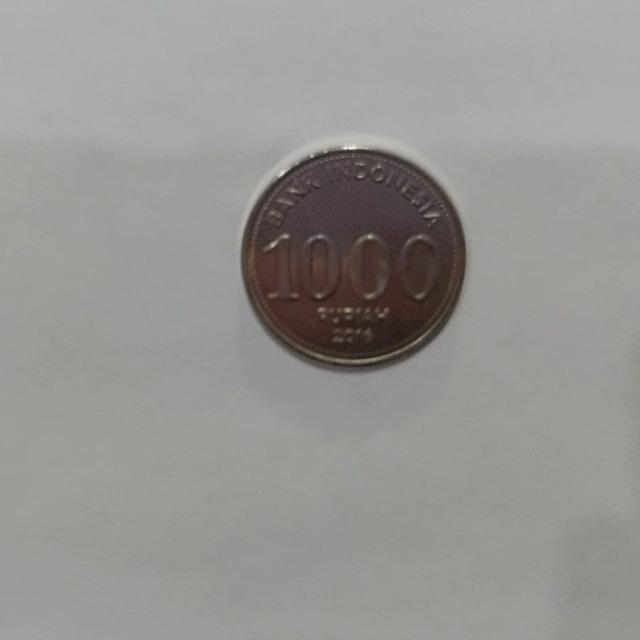Rp100: (237, 134, 468, 370)
